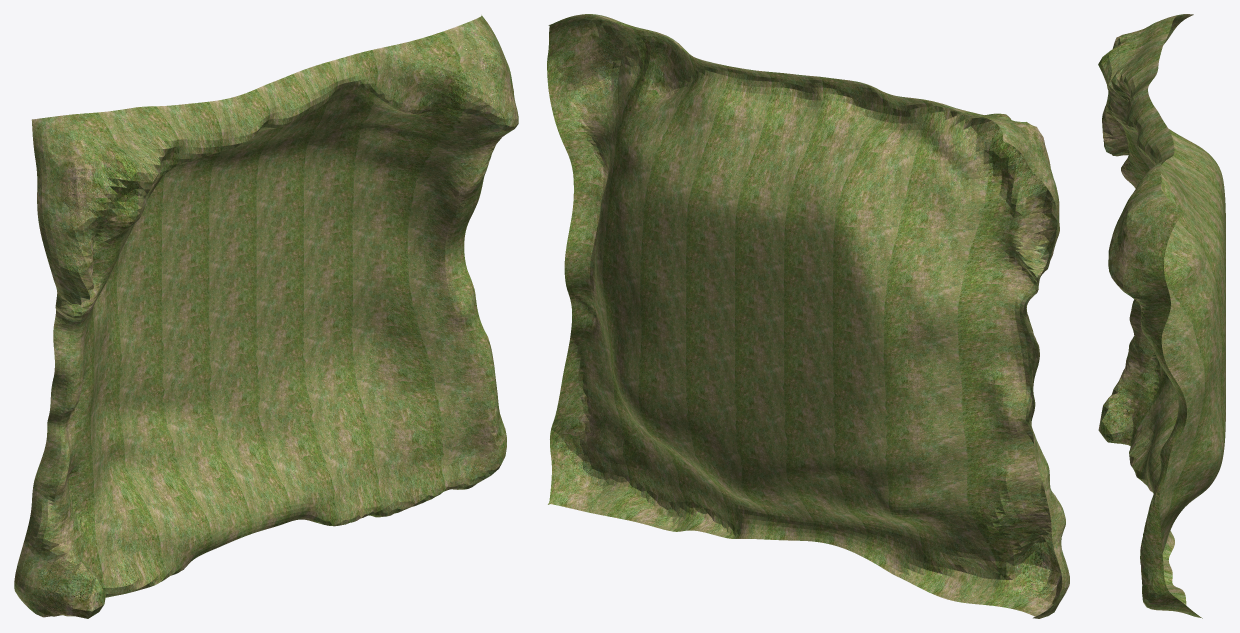
Rendered from ground.obj.
3 renders of one model, left to right at view 1: azimuth 30°, elevation 25°; view 2: azimuth 150°, elevation 25°; view 3: azimuth 270°, elevation 25°, orthographic. The views are drawn at different scales.
Visible parts, largest first — view 1: Plane_Plane.001; view 2: Plane_Plane.001; view 3: Plane_Plane.001.
Boxes of the visible parts, x1=… form: Plane_Plane.001: x1=14, y1=15, x2=518, y2=618; Plane_Plane.001: x1=547, y1=14, x2=1069, y2=618; Plane_Plane.001: x1=1098, y1=14, x2=1225, y2=618.
Size of the model in its own units: 764 by 712 by 188.
1 material, 1 textured.
